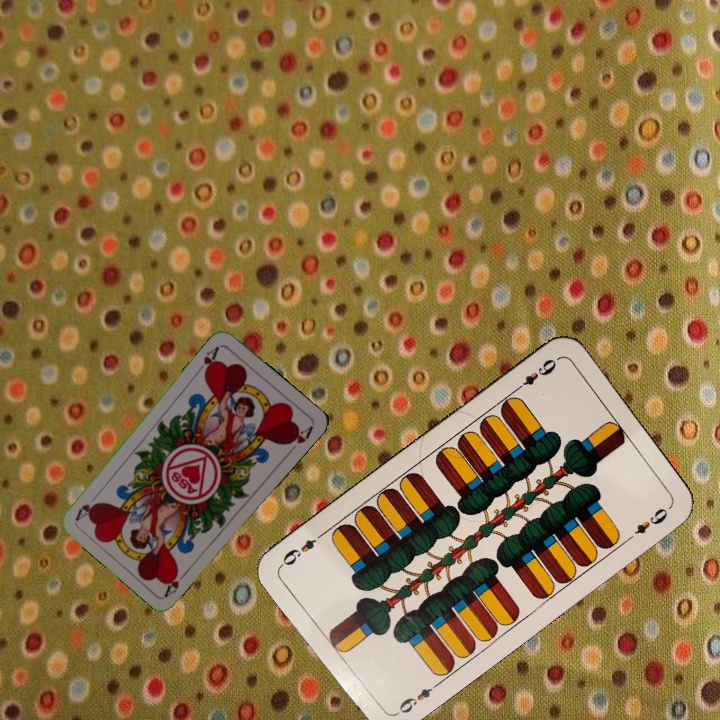E9: (510, 354, 561, 395), (390, 679, 441, 719)
HA: (160, 565, 192, 599), (193, 342, 222, 378)
